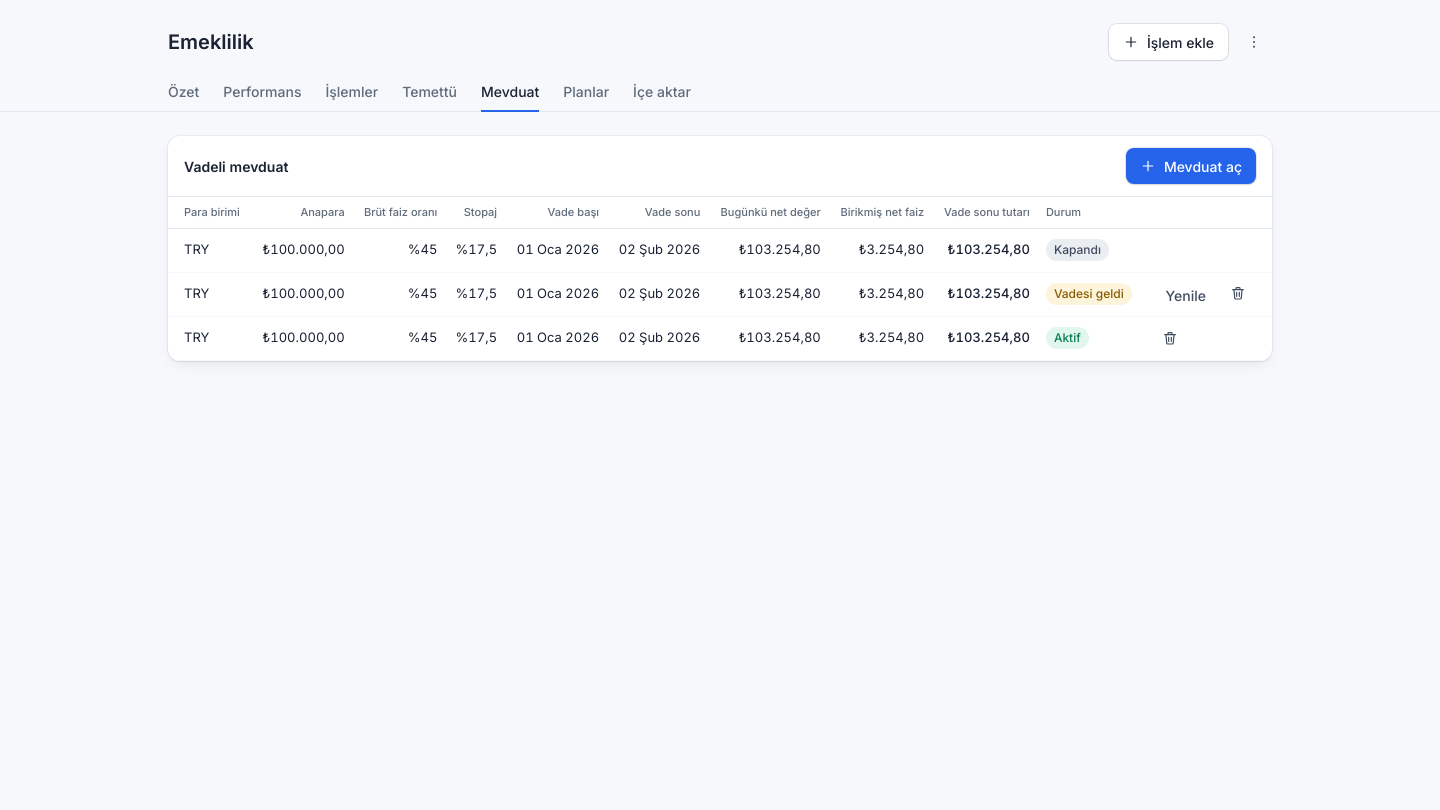
Test case: offers Yenile on a due or matured deposit until another one renews it
The width and height of the screenshot is (1440, 810).
Click the button with aria-label "mevduatını yenile": x=1186, y=295 top-left (1152, 277), bottom-right (1220, 313)
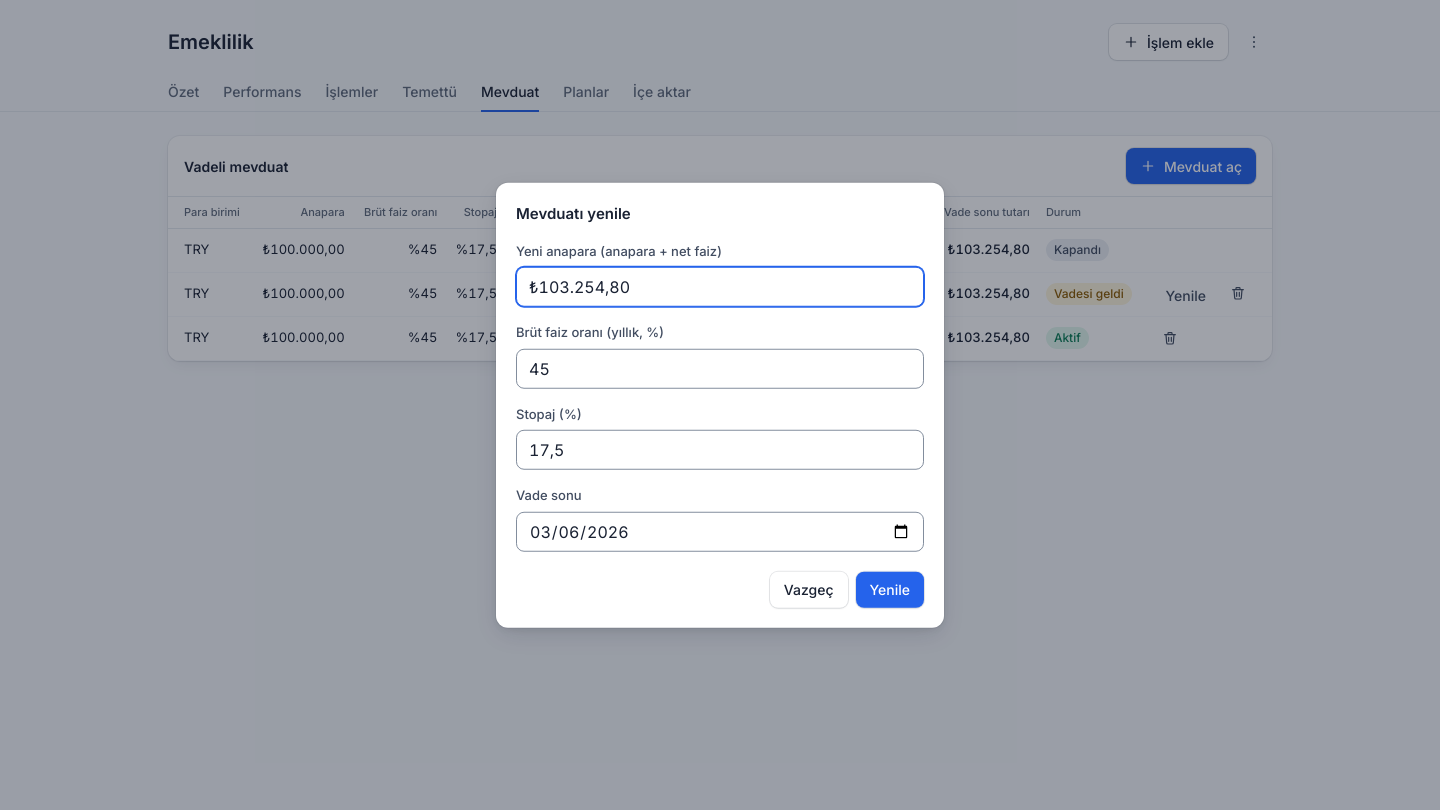
Expected: the dialog "Mevduatı yenile" is shown, top-left (496, 183), bottom-right (944, 627)
